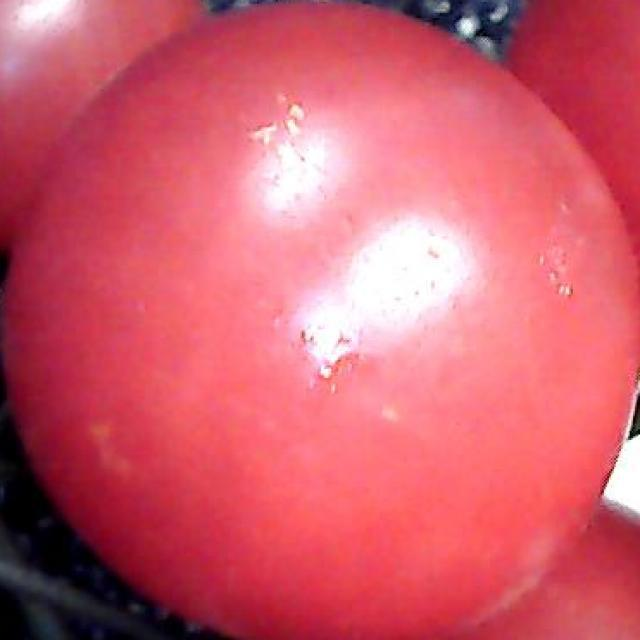Healthy: (31, 9, 640, 640)
